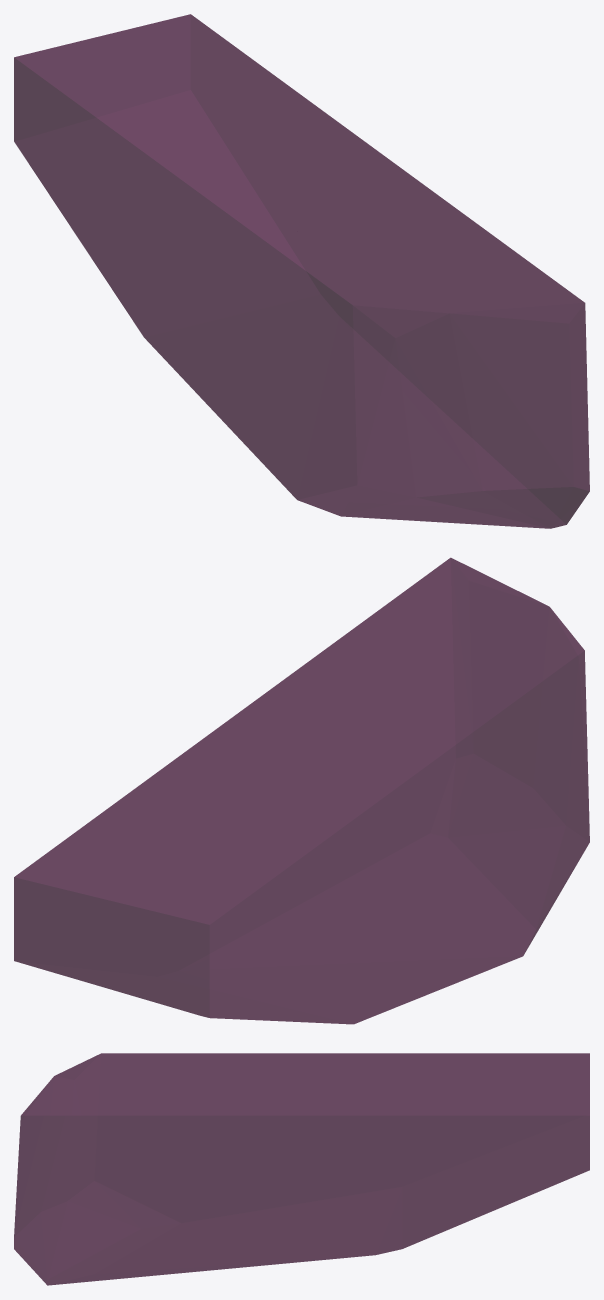
The picture shows the model from 3 angles, top to bottom: view 1: azimuth 30°, elevation 25°; view 2: azimuth 150°, elevation 25°; view 3: azimuth 270°, elevation 25°; orthographic projection. The views are drawn at different scales.
Parts seen in each view (by area): view 1: Shape_IndexedFaceSet.009_Shape_IndexedFaceSet.3597; view 2: Shape_IndexedFaceSet.009_Shape_IndexedFaceSet.3597; view 3: Shape_IndexedFaceSet.009_Shape_IndexedFaceSet.3597.
Part boxes in pixels (left/top/right/bottom): Shape_IndexedFaceSet.009_Shape_IndexedFaceSet.3597: left=14, top=14, right=589, bottom=528; Shape_IndexedFaceSet.009_Shape_IndexedFaceSet.3597: left=14, top=557, right=589, bottom=1024; Shape_IndexedFaceSet.009_Shape_IndexedFaceSet.3597: left=14, top=1053, right=589, bottom=1285.
Bounding box in the file's own units: 0.0418 × 0.0532 × 0.1635.
